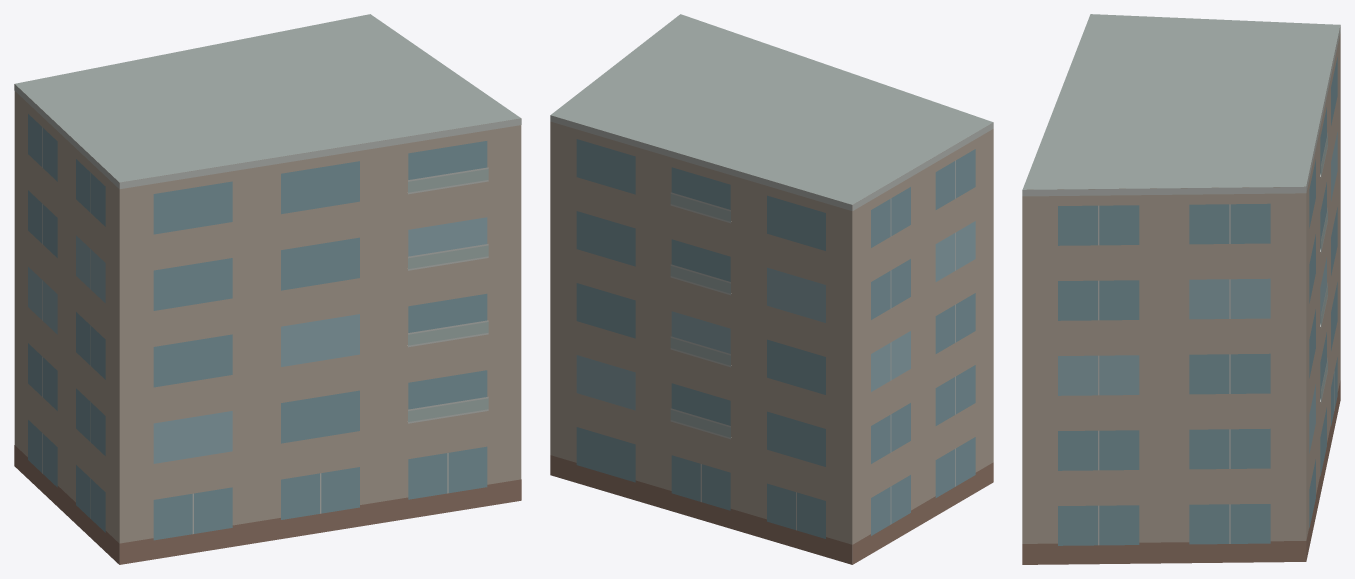
File: survey-upis-32783750.glb
3 views of the same model, side by side, from view 1: azimuth 30°, elevation 25°; view 2: azimuth 150°, elevation 25°; view 3: azimuth 270°, elevation 25° (orthographic). The views are drawn at different scales.
Parts seen in each view (by area): view 1: survey-upis-32783750.tmp; view 2: survey-upis-32783750.tmp; view 3: survey-upis-32783750.tmp.
Part boxes in pixels (x1,y1,x2,y2): survey-upis-32783750.tmp: [14, 14, 521, 564]; survey-upis-32783750.tmp: [550, 14, 993, 564]; survey-upis-32783750.tmp: [1022, 14, 1340, 564].
Size of the model in its own units: 13.93 by 13.85 by 10.66.
